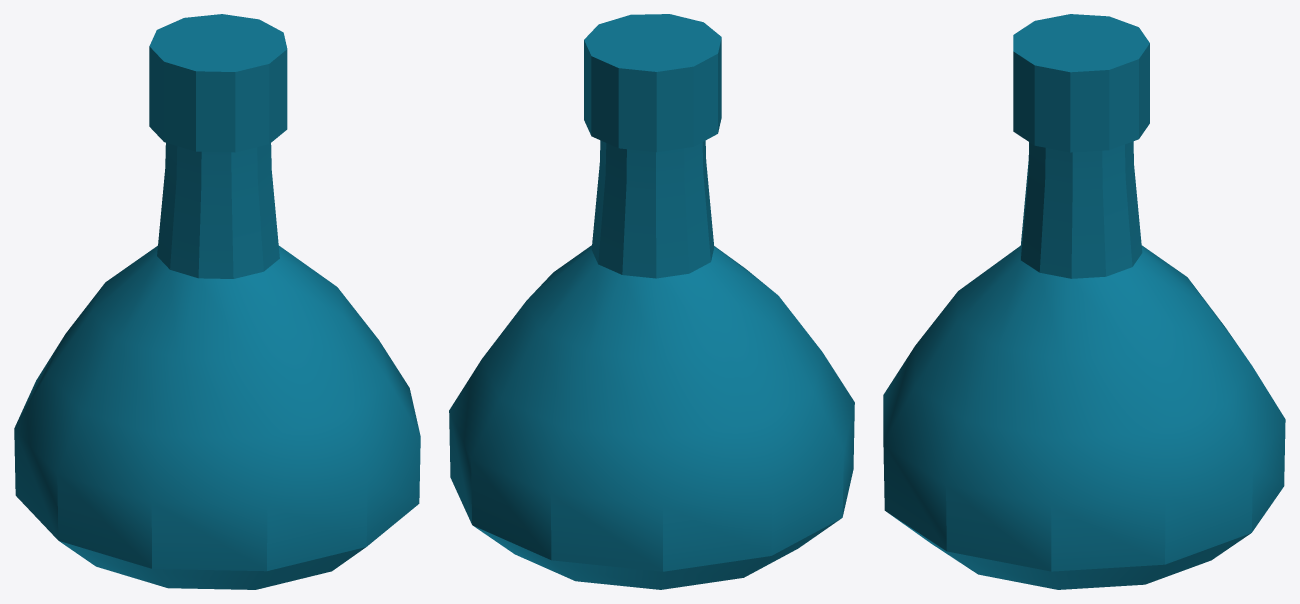
The model's file is 8_smallBlueBottle.fbx.
The picture shows the model from 3 angles, left to right: view 1: azimuth 30°, elevation 25°; view 2: azimuth 150°, elevation 25°; view 3: azimuth 270°, elevation 25°; orthographic projection.
Visible parts, largest first — view 1: Sphere.003; view 2: Sphere.003; view 3: Sphere.003.
Boxes of the visible parts, x1,y1,x2,y2 form: Sphere.003: [14, 14, 420, 589]; Sphere.003: [449, 14, 854, 589]; Sphere.003: [883, 14, 1285, 589].
Size of the model in its own units: 118 by 155 by 117.
